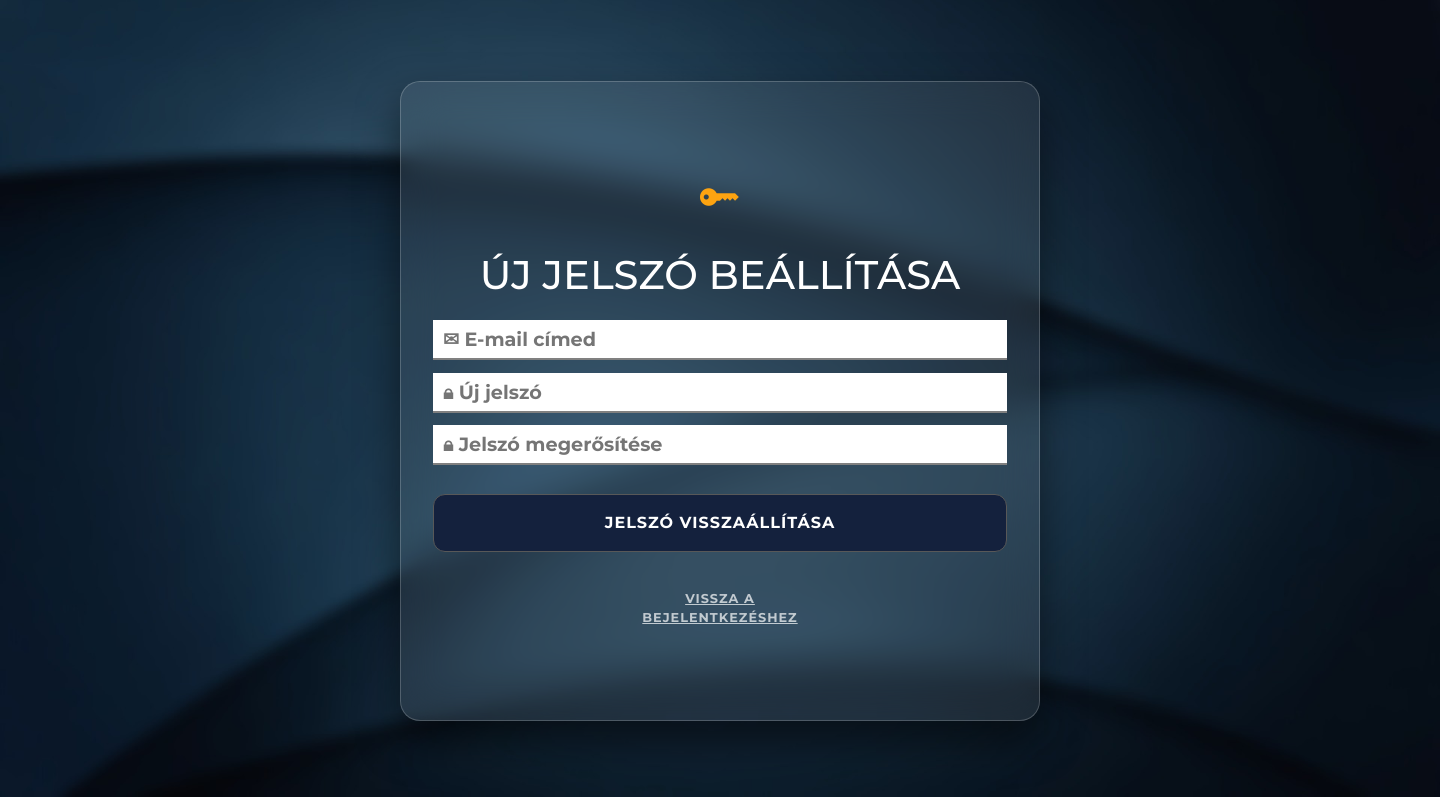
Test: StudentResetComp – Jelszó visszaállítás › hibát jelenít meg ha a két jelszó nem egyezik
(page scrolled)
Type "Jelszo123!" into the password field with placeholder "🔒︎ Új jelszó" at (720, 393), box 433,373 -> 1007,413
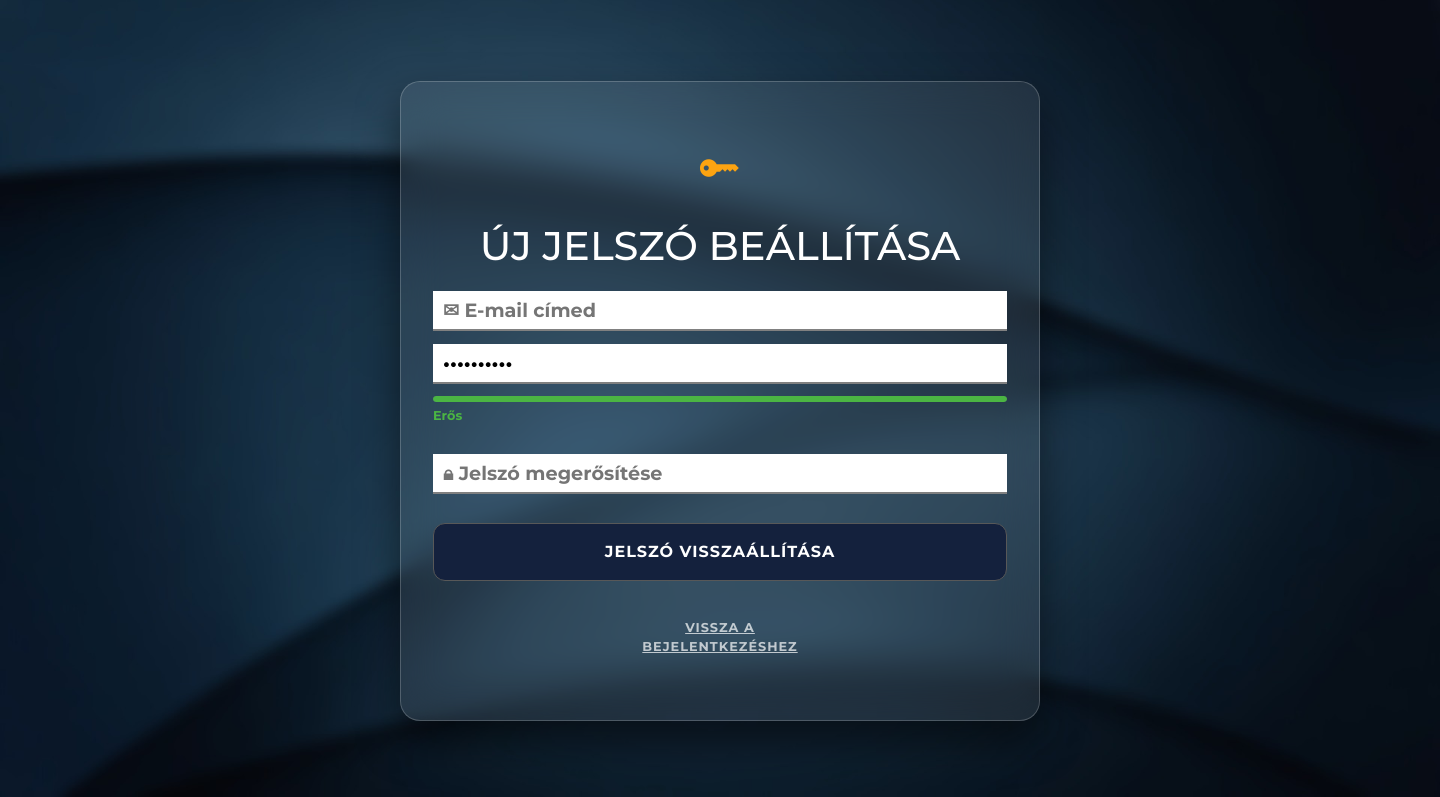
Type "MasikJelszo!" into the password field with placeholder "🔒︎ Jelszó megerősítése" at (720, 474), box 433,454 -> 1007,494
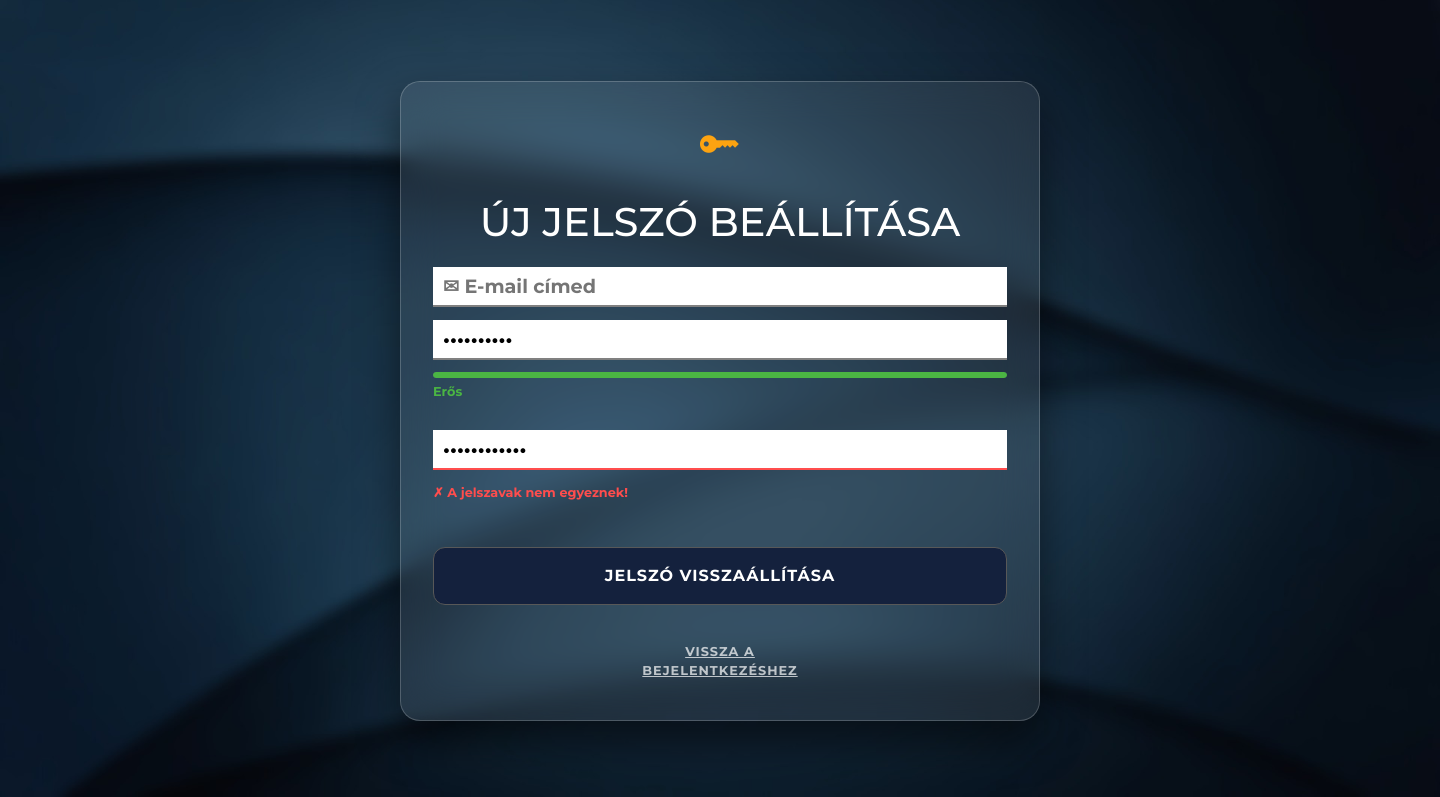
Check: the text "✗ A jelszavak nem egyeznek!" is shown, box 433,485 -> 628,500
